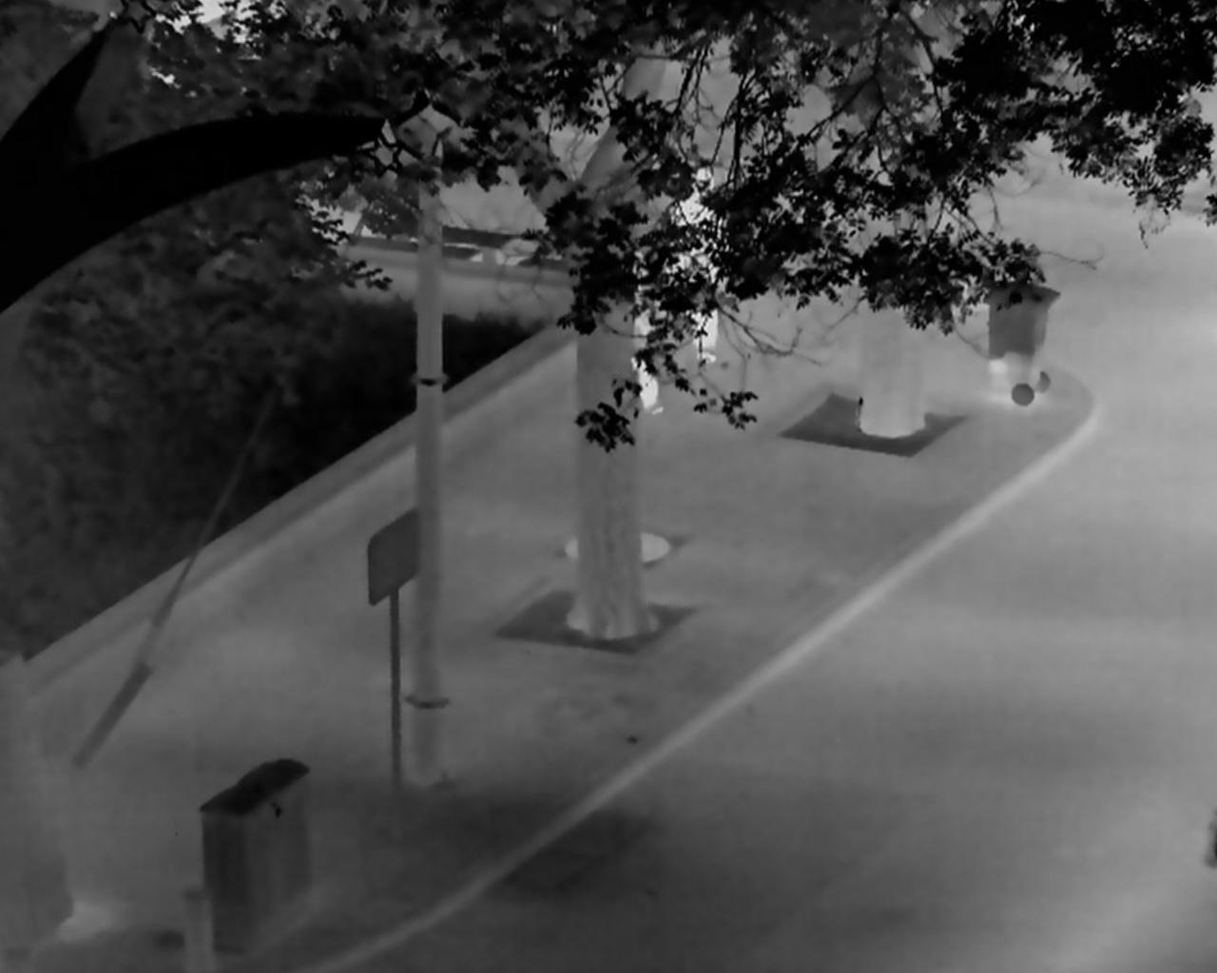person: (664, 164, 727, 362), (632, 245, 669, 413)
